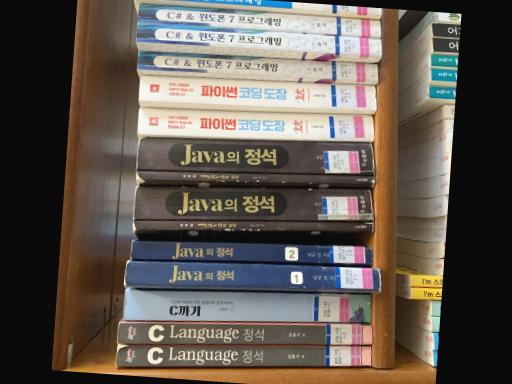book-spine: (137, 137, 374, 173), (139, 74, 377, 109), (136, 21, 381, 55), (138, 3, 380, 37), (133, 185, 373, 219), (123, 290, 371, 322), (137, 106, 374, 139), (124, 260, 380, 290), (137, 51, 378, 81), (118, 320, 371, 344), (115, 343, 371, 366), (130, 241, 373, 263), (136, 170, 375, 183), (200, 0, 382, 14), (133, 221, 373, 230)
